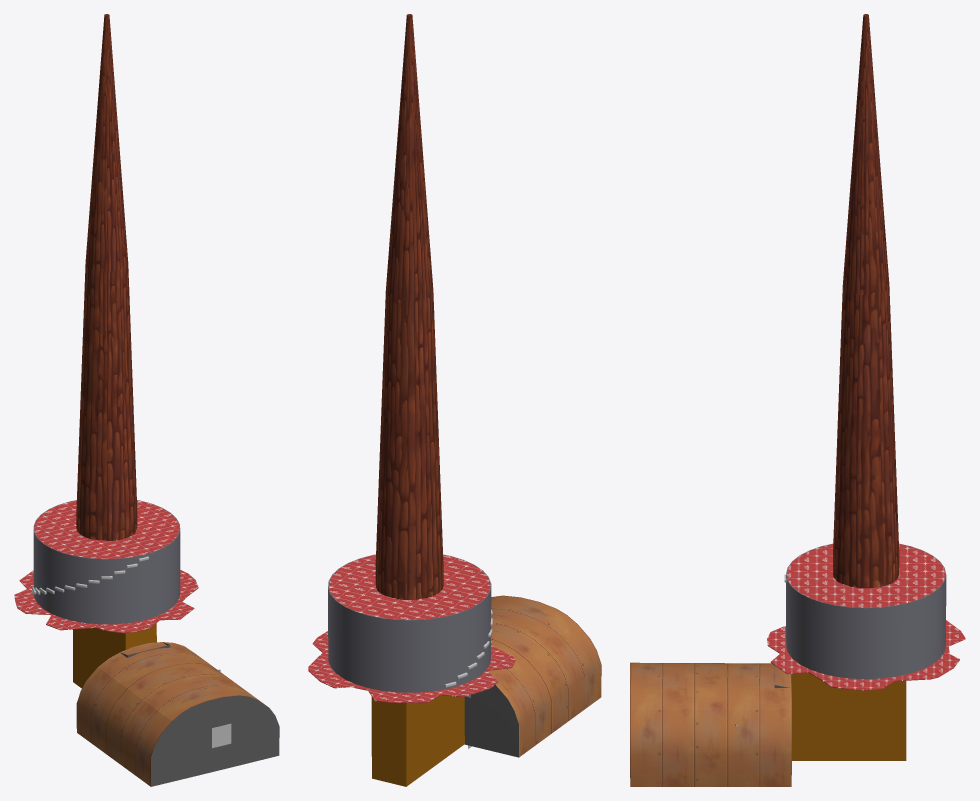
The model's file is MysteryShackForestBunker.FBX.
3 views of the same model, side by side, from view 1: azimuth 30°, elevation 25°; view 2: azimuth 150°, elevation 25°; view 3: azimuth 270°, elevation 25° (orthographic). The views are drawn at different scales.
Visible parts, largest first — view 1: SecretTree, BunkerWallsShelled, SecretWallsGroundShelled, SecretGround, BunkerStairsWallsShelled; view 2: SecretTree, SecretWallsGroundShelled, BunkerWallsShelled, BunkerStairsWallsShelled, SecretGround, SectretTreeDoor; view 3: SecretTree, BunkerWallsShelled, SecretWallsGroundShelled, BunkerStairsWallsShelled, SecretGround.
Part boxes in pixels (<box>): SecretTree: <box>76,14,137,540</box>; BunkerWallsShelled: <box>76,642,279,786</box>; SecretWallsGroundShelled: <box>14,500,198,633</box>; SecretGround: <box>34,500,179,558</box>; BunkerStairsWallsShelled: <box>73,623,156,688</box>; SecretTree: <box>375,14,443,599</box>; SecretWallsGroundShelled: <box>308,554,516,703</box>; BunkerWallsShelled: <box>464,595,601,757</box>; BunkerStairsWallsShelled: <box>371,695,464,786</box>; SecretGround: <box>328,555,490,619</box>; SectretTreeDoor: <box>380,574,409,599</box>; SecretTree: <box>833,14,899,588</box>; BunkerWallsShelled: <box>630,662,791,786</box>; SecretWallsGroundShelled: <box>767,543,965,690</box>; BunkerStairsWallsShelled: <box>791,673,906,760</box>; SecretGround: <box>786,544,945,607</box>.
Size of the model in its own units: 1280 by 5114 by 2090.
